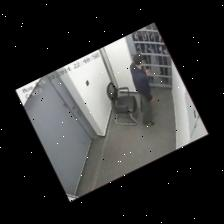person: (130, 53, 154, 125)
